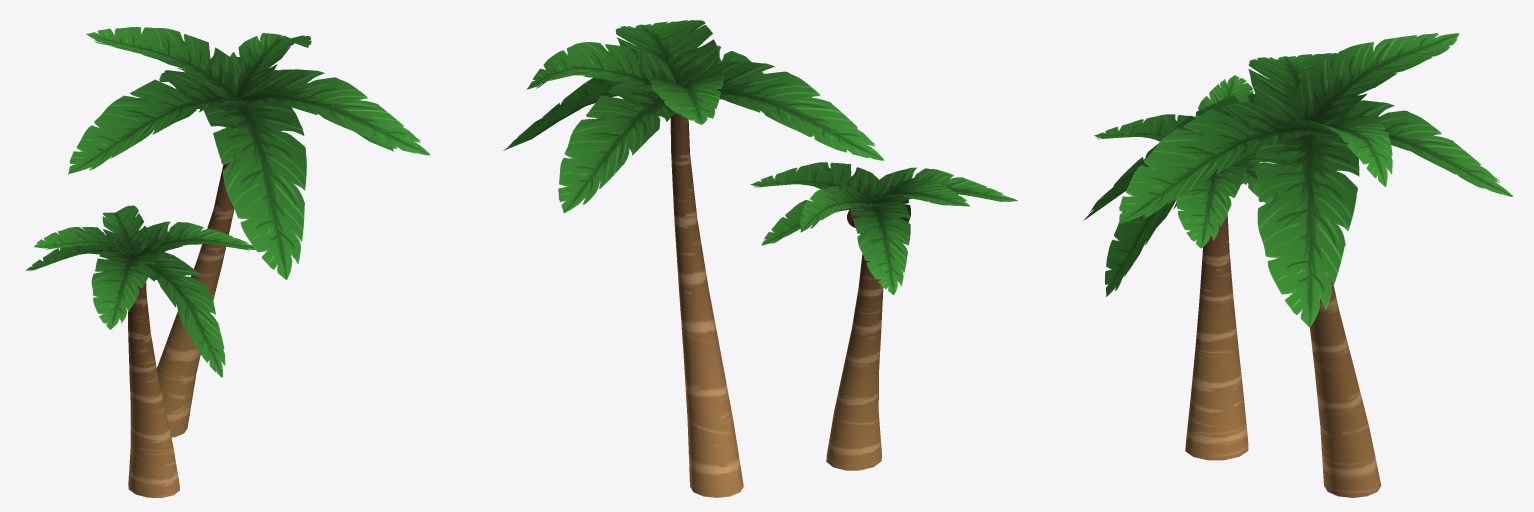
File: palm_tree.fbx
3 views of the same model, side by side, from view 1: azimuth 30°, elevation 25°; view 2: azimuth 150°, elevation 25°; view 3: azimuth 270°, elevation 25° (orthographic). The views are drawn at different scales.
Parts seen in each view (by area): view 1: leave3 (×2), leave4 (×2), leave2 (×2), tree2, leave6 (×2), tree1, leave7 (×2), leave5; view 2: tree1, leave5 (×2), leave4 (×2), tree2, leave2 (×2), leave7 (×2), leave6 (×2), leave8 (×2); view 3: leave8 (×2), leave2 (×2), tree2, tree1, leave6 (×2), leave4 (×2), leave5, leave3 (×2), leave7.
Part boxes in pixels (x1=…): leave3 (×2): x1=145, y1=98, x2=306, y2=377; leave4 (×2): x1=68, y1=74, x2=243, y2=329; leave2 (×2): x1=137, y1=69, x2=430, y2=254; tree2: x1=128, y1=282, x2=179, y2=497; leave6 (×2): x1=34, y1=27, x2=241, y2=255; tree1: x1=157, y1=161, x2=234, y2=437; leave7 (×2): x1=102, y1=33, x2=311, y2=254; leave5: x1=25, y1=232, x2=122, y2=271; tree1: x1=670, y1=113, x2=743, y2=497; leave5 (×2): x1=558, y1=81, x2=910, y2=294; leave4 (×2): x1=686, y1=61, x2=1017, y2=206; tree2: x1=826, y1=253, x2=883, y2=470; leave2 (×2): x1=615, y1=20, x2=878, y2=199; leave7 (×2): x1=526, y1=42, x2=880, y2=232; leave6 (×2): x1=642, y1=71, x2=969, y2=206; leave8 (×2): x1=503, y1=78, x2=872, y2=245; leave8 (×2): x1=1234, y1=129, x2=1359, y2=327; leave2 (×2): x1=1119, y1=101, x2=1318, y2=248; tree2: x1=1185, y1=214, x2=1248, y2=460; tree1: x1=1310, y1=276, x2=1381, y2=497; leave6 (×2): x1=1195, y1=32, x2=1459, y2=129; leave4 (×2): x1=1094, y1=53, x2=1337, y2=141; leave5: x1=1309, y1=100, x2=1513, y2=196; leave3 (×2): x1=1083, y1=94, x2=1265, y2=296; leave7: x1=1287, y1=115, x2=1392, y2=186.
Size of the model in its own units: 15.2 by 13.64 by 12.93.
Materials: 3 (3 with a texture image).
